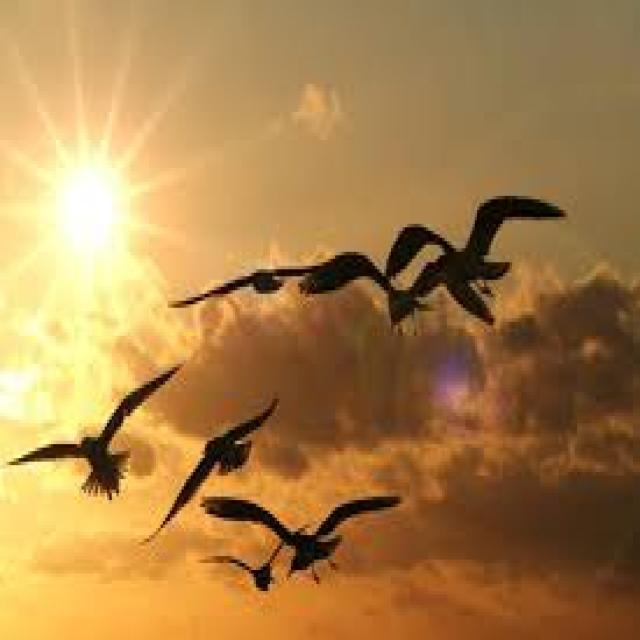bird: (3, 334, 185, 516), (121, 383, 289, 565), (200, 479, 400, 577), (334, 250, 478, 369), (422, 199, 558, 315), (171, 240, 362, 320), (206, 534, 294, 610)
